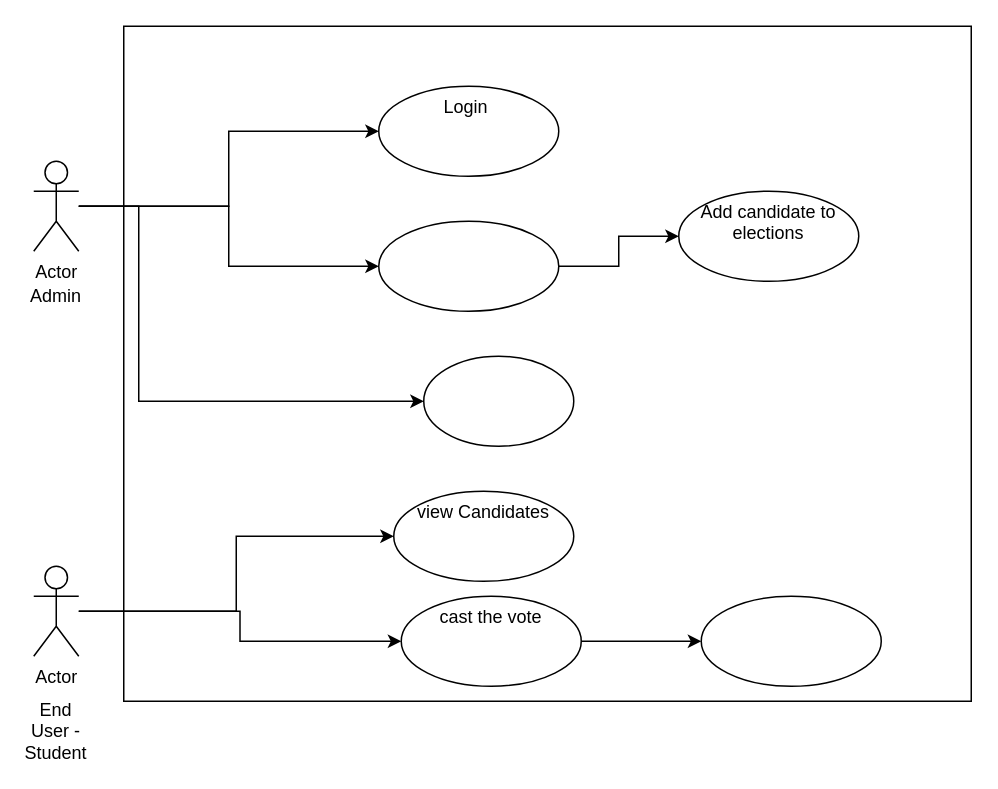
The diagram is 998 pixels wide and 789 high, and some of its shapes have lost their labels. The shapes that lost their labels are listed below. From the top down, each one's box as (x1, y1, x2, y2) in pixels, then its label:
(377, 220, 559, 311): Add Election
(422, 355, 574, 446): Views Results
(700, 595, 881, 686): Confirm the vote
